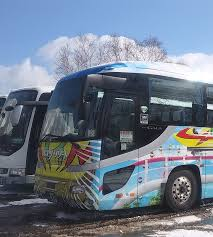bus: (32, 59, 213, 214), (1, 85, 57, 188)
